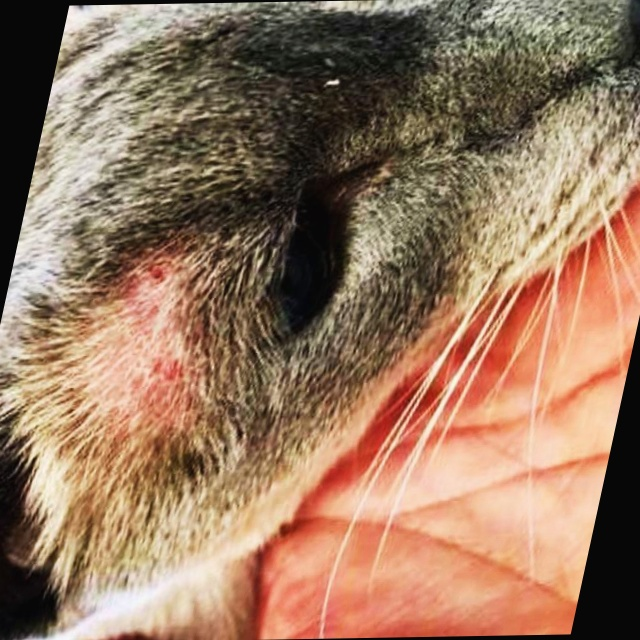ringworm: (76, 270, 194, 411)
